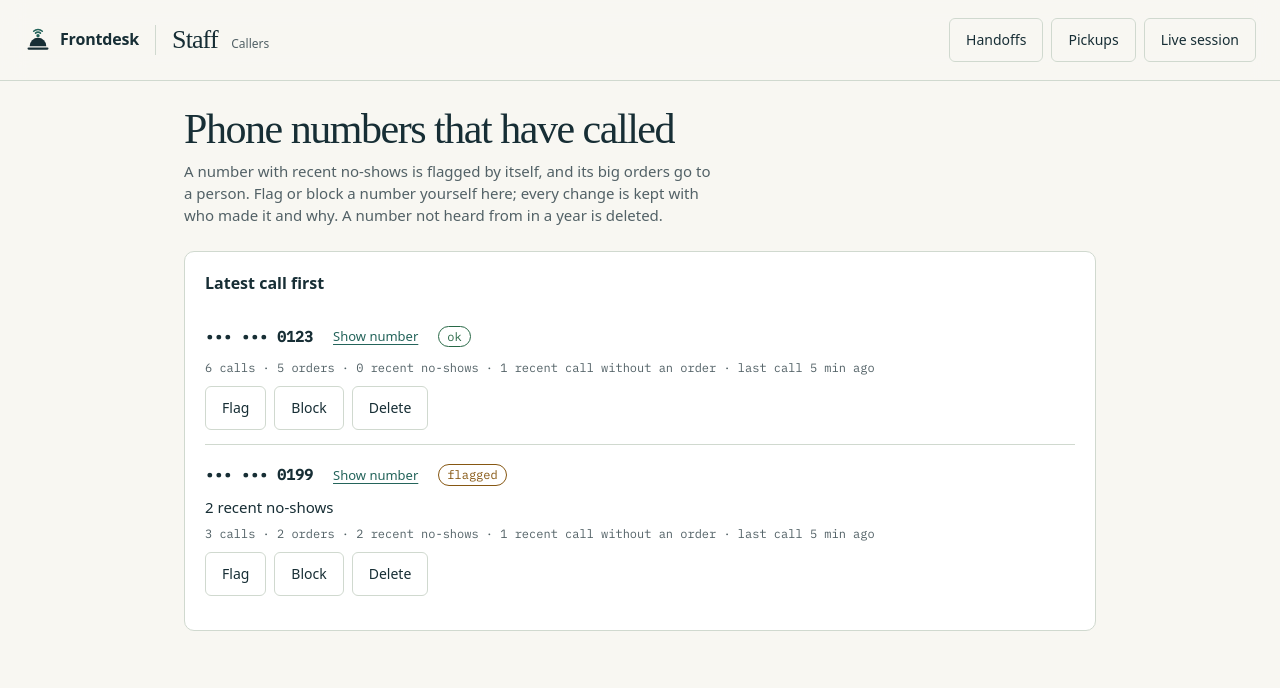
it: the callers page › blocks a number only with a reason, and says what blocking does
Step 1. Click the button "Block" below "••• ••• 0123" → (309, 408), box 274,386 -> 344,430
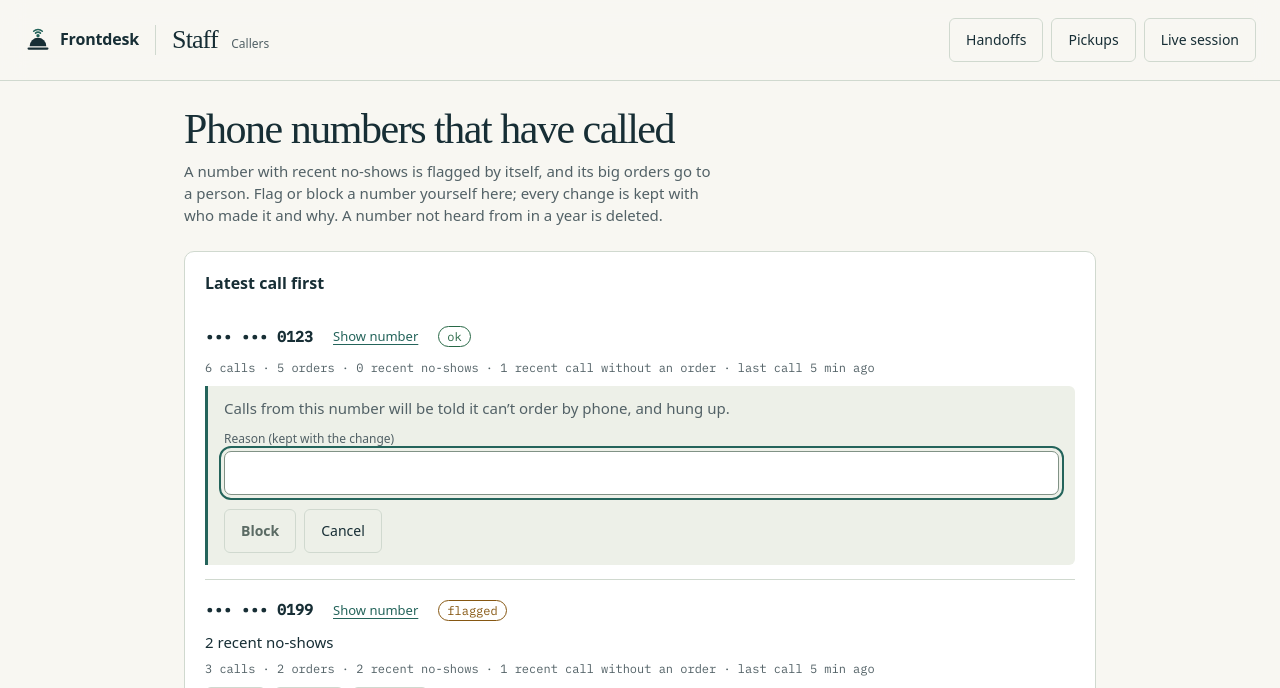
Expected: the form named "Block this number" shows "told it can’t order by phone", 224,398 -> 730,418
Expected: the button "Block" below "Reason (kept with the change)" is disabled, 224,509 -> 296,553
Step 2. Type "Abusive calls" into the field labelled "Reason (kept with the change)" → (642, 473), box 224,451 -> 1059,495
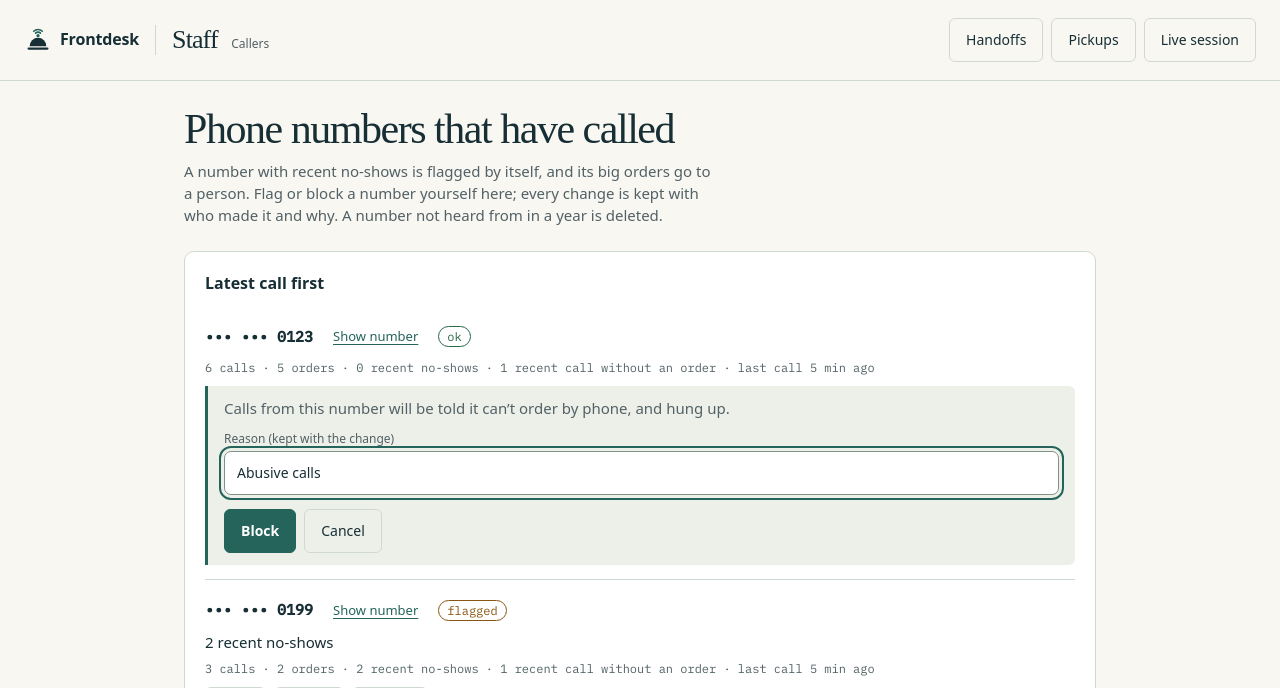
Step 3. Click the button "Block" below "Reason (kept with the change)" → (260, 531), box 224,509 -> 296,553
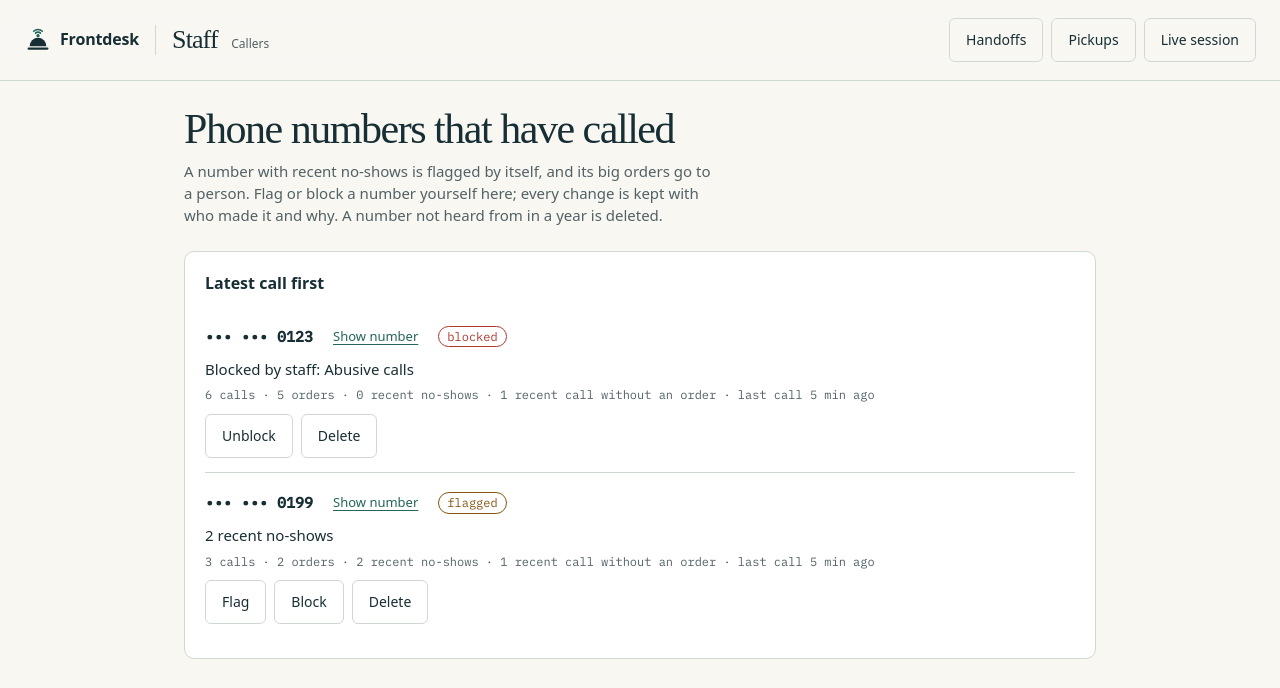
Expected: the list item named "Number ending 0123" shows "Blocked by staff: Abusive calls", 205,359 -> 414,379
Expected: the button "Unblock" is shown, 205,414 -> 293,458
